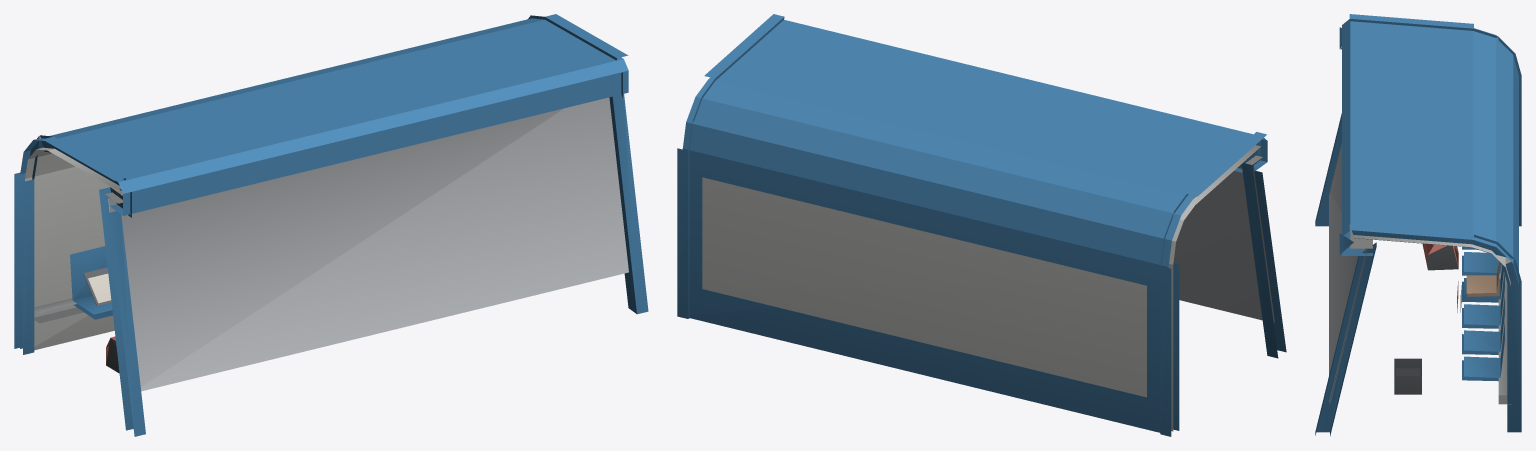
File: dugout.lod.glb
3 renders of one model, left to right at view 1: azimuth 30°, elevation 25°; view 2: azimuth 150°, elevation 25°; view 3: azimuth 270°, elevation 25°, orthographic. The views are drawn at different scales.
Visible parts, largest first — view 1: dugout; view 2: dugout; view 3: dugout.
Boxes of the visible parts, x1,y1,x2,y2 form: dugout: [14, 14, 648, 436]; dugout: [677, 14, 1286, 436]; dugout: [1315, 14, 1521, 436].
Size of the model in its own units: 5.93 by 2.66 by 2.4.
